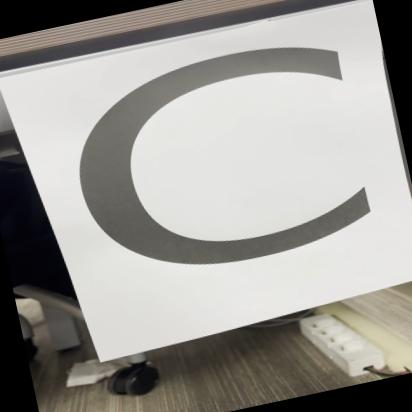seat: (4, 1, 412, 359)
